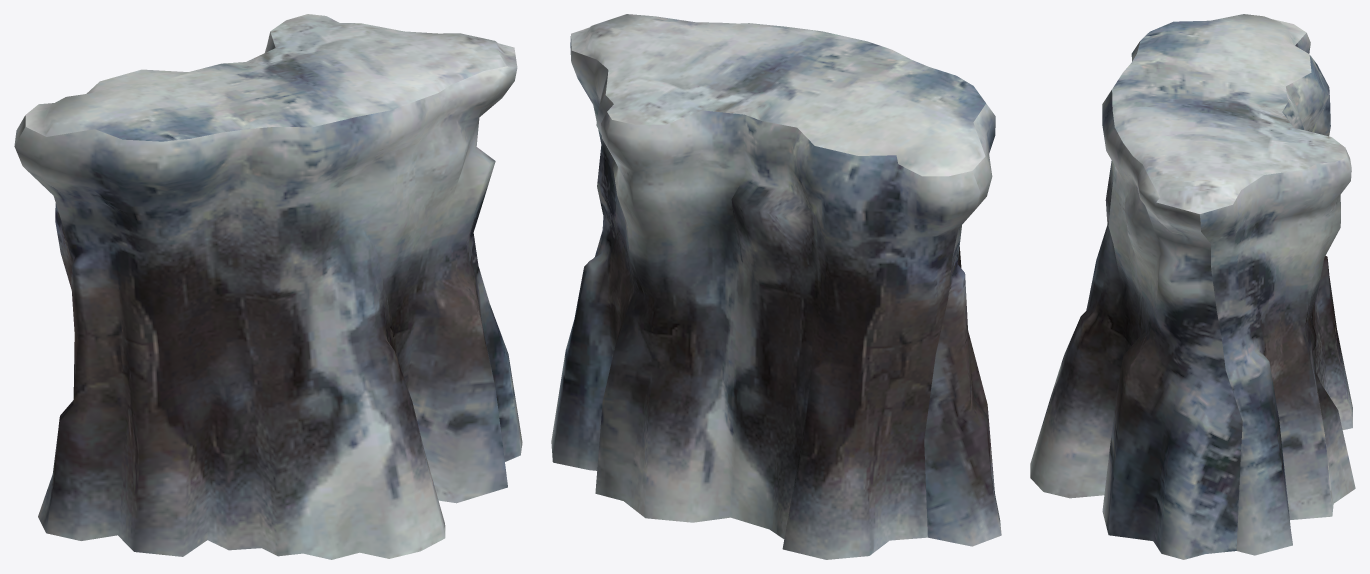
The model's file is S_Rock_White027.FBX.
3 views of the same model, side by side, from view 1: azimuth 30°, elevation 25°; view 2: azimuth 150°, elevation 25°; view 3: azimuth 270°, elevation 25° (orthographic). The views are drawn at different scales.
Visible parts, largest first — view 1: S_Rock_White027; view 2: S_Rock_White027; view 3: S_Rock_White027.
Boxes of the visible parts, bbox=[...] form: S_Rock_White027: bbox=[14, 14, 522, 559]; S_Rock_White027: bbox=[551, 14, 1001, 559]; S_Rock_White027: bbox=[1030, 14, 1355, 559].
Bounding box in the file's own units: 1345 × 929 × 1154.
